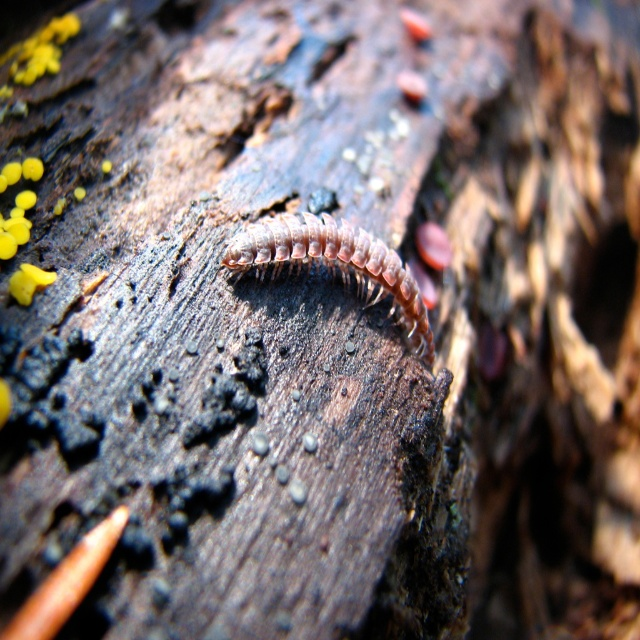Centipede: (217, 210, 436, 369)
